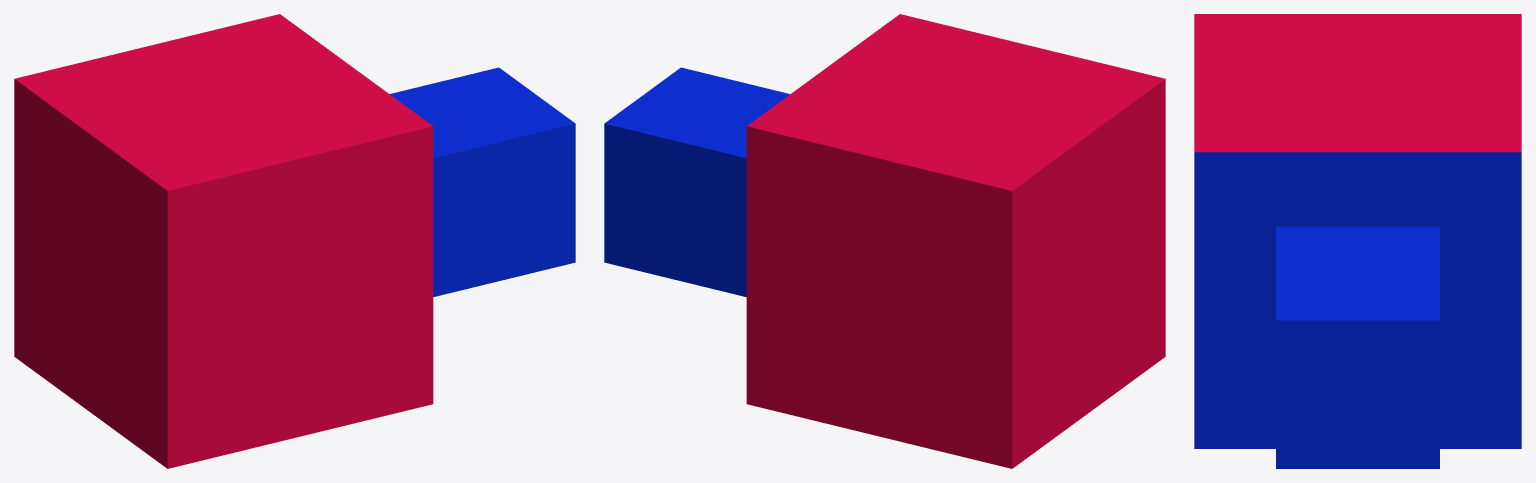
The model's file is waypoint.fbx.
3 renders of one model, left to right at view 1: azimuth 30°, elevation 25°; view 2: azimuth 150°, elevation 25°; view 3: azimuth 270°, elevation 25°, orthographic. The views are drawn at different scales.
Visible parts, largest first — view 1: Cube; view 2: Cube; view 3: Cube.
Part boxes in pixels (<box>): Cube: <box>14,14,575,468</box>; Cube: <box>604,14,1165,468</box>; Cube: <box>1194,14,1521,468</box>.
Bounding box in the file's own units: 336 × 200 × 200.
